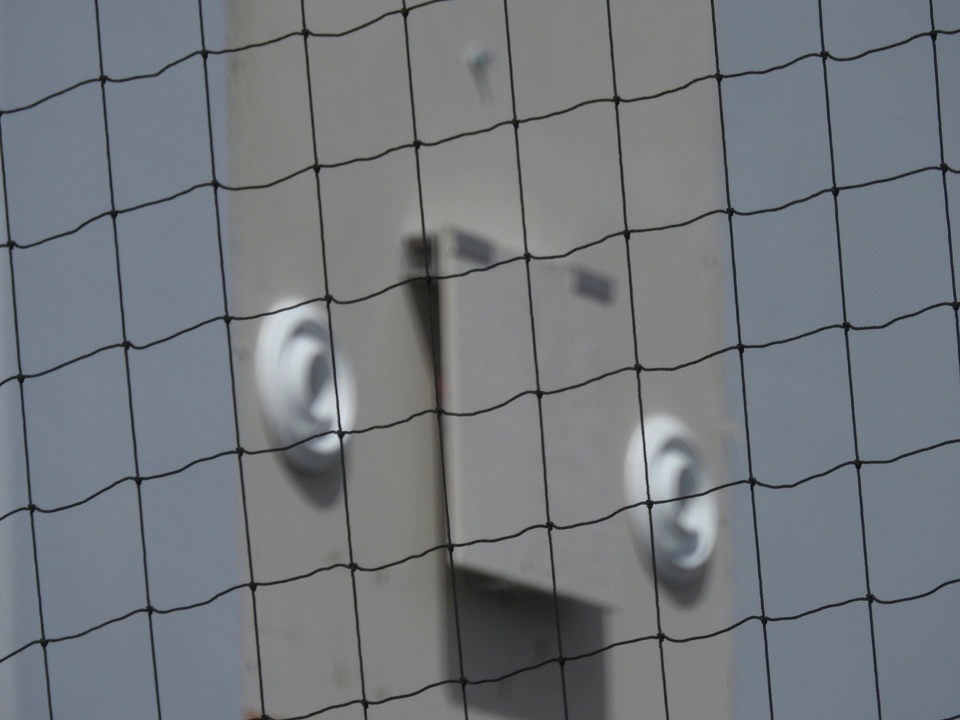facade: (254, 216, 717, 612)
